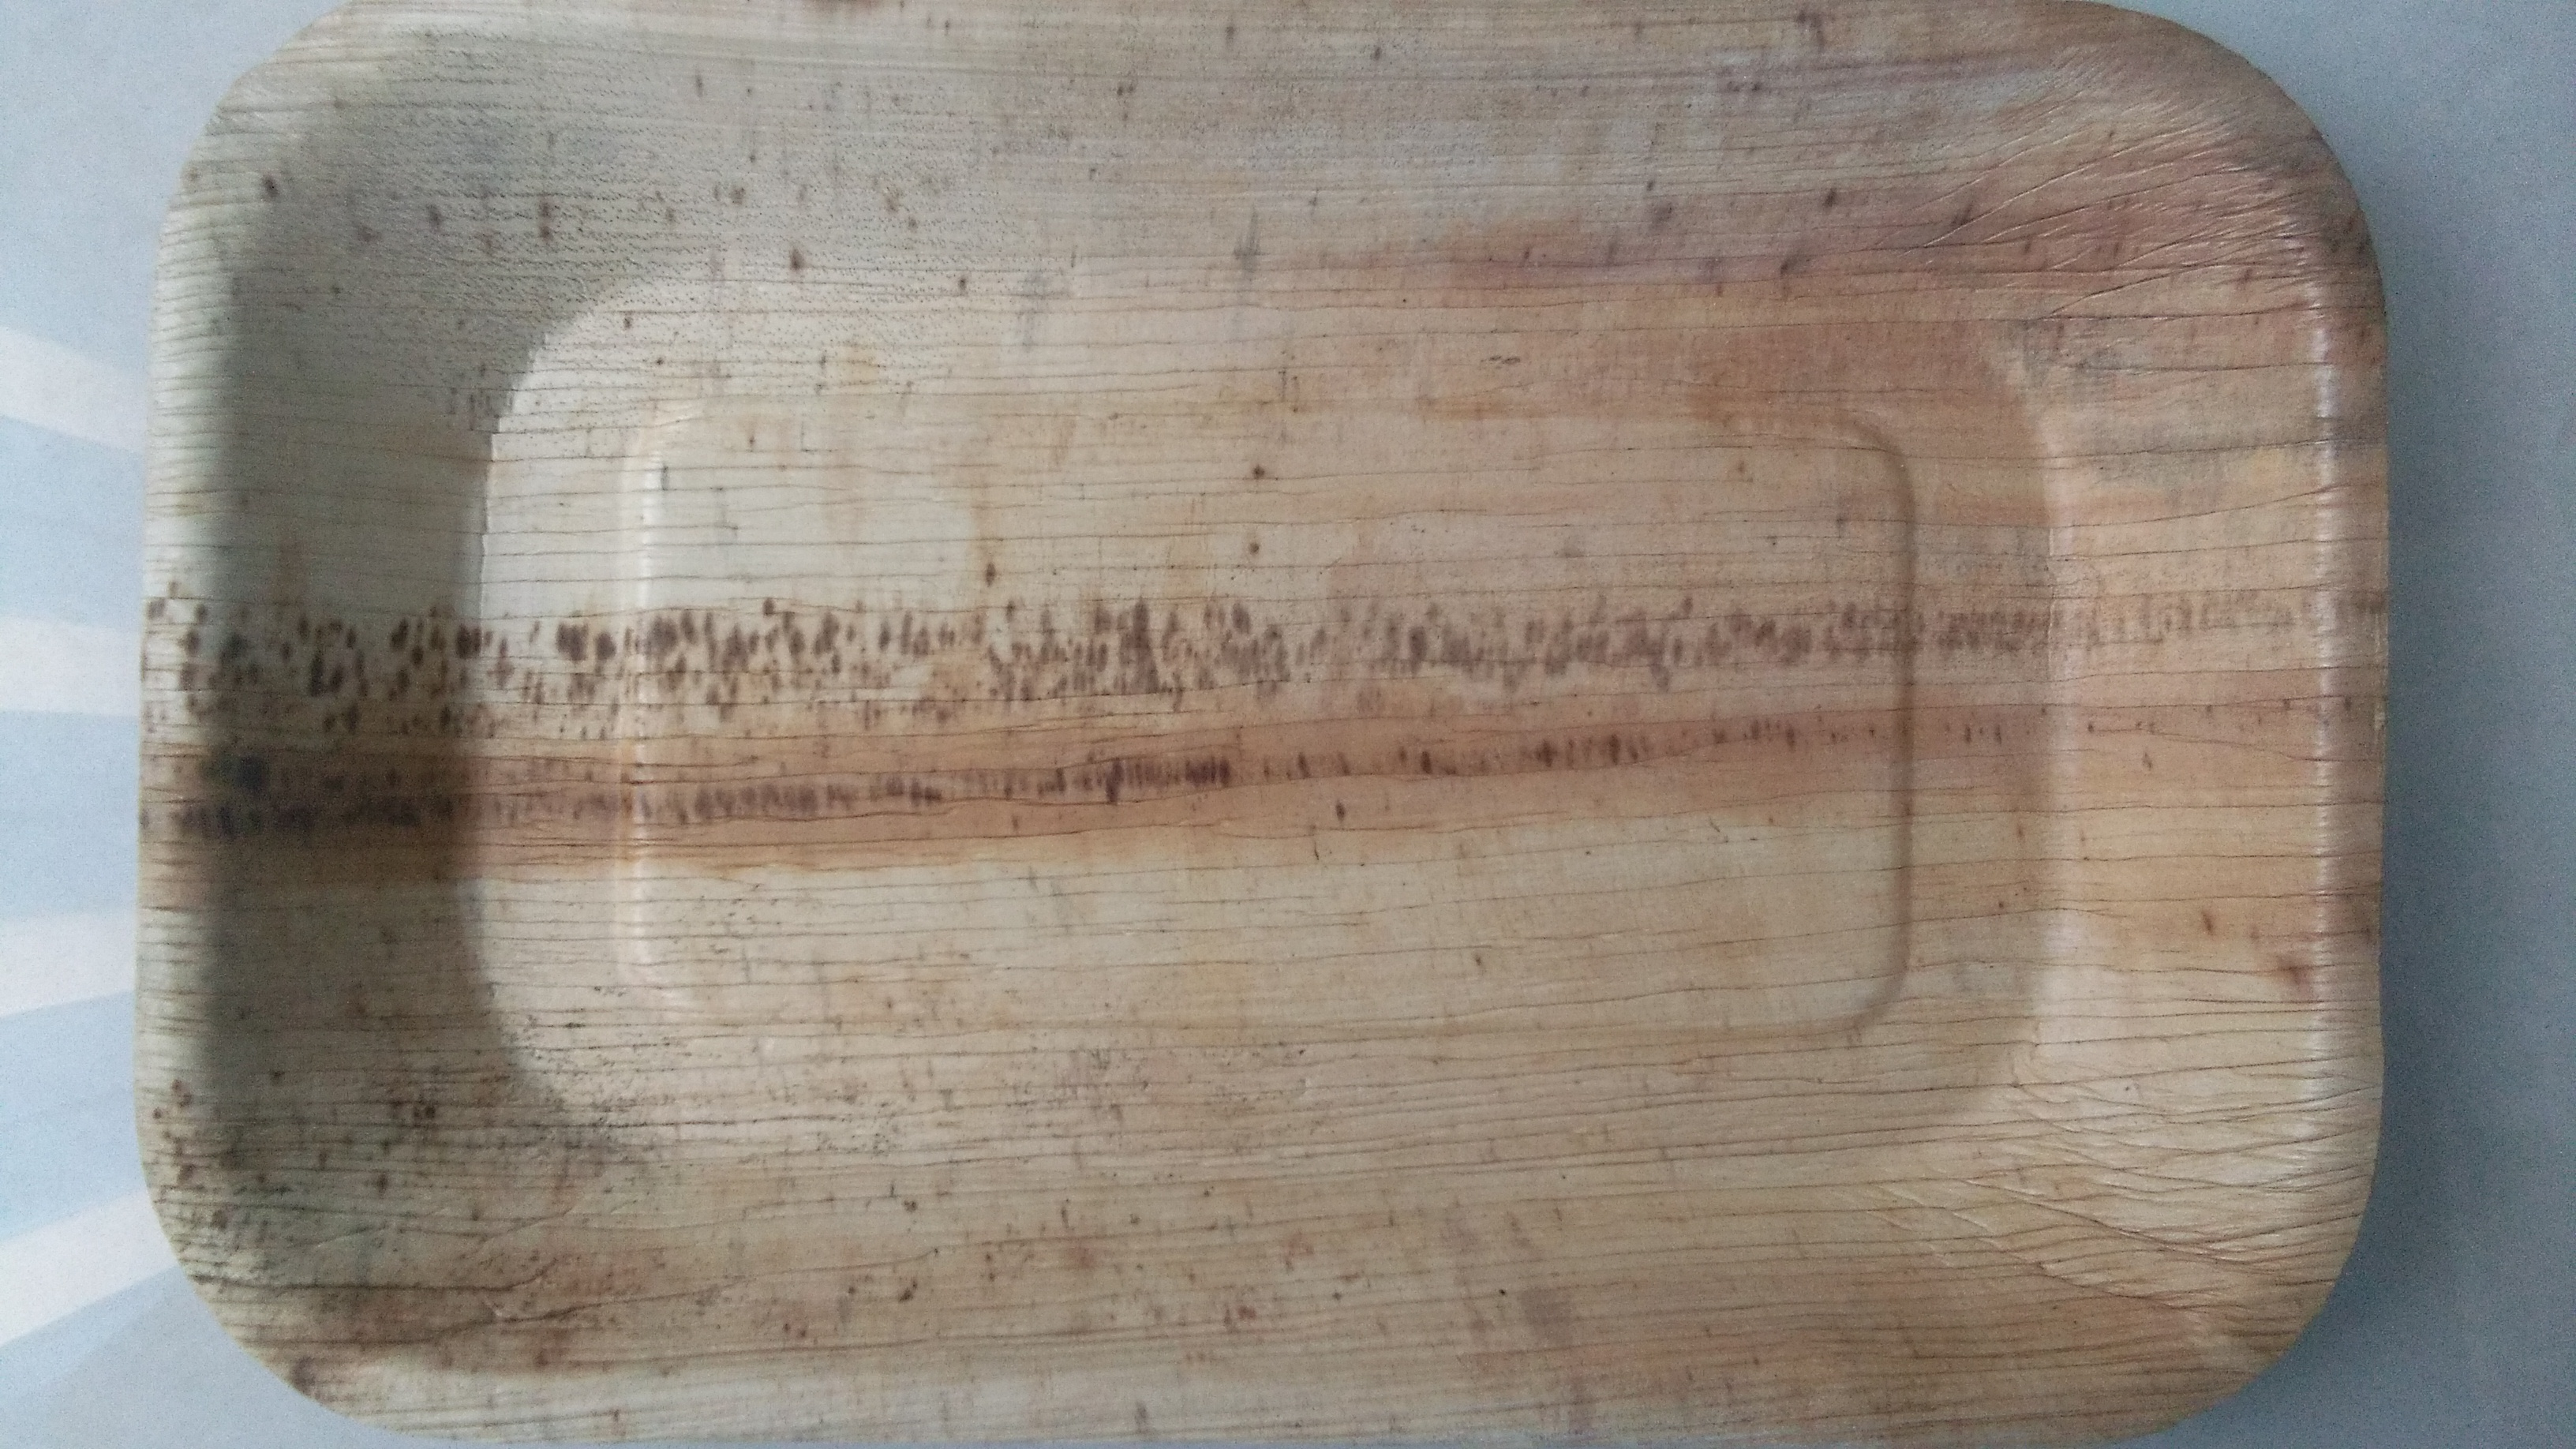areca plate: (166, 11, 2376, 1449)
